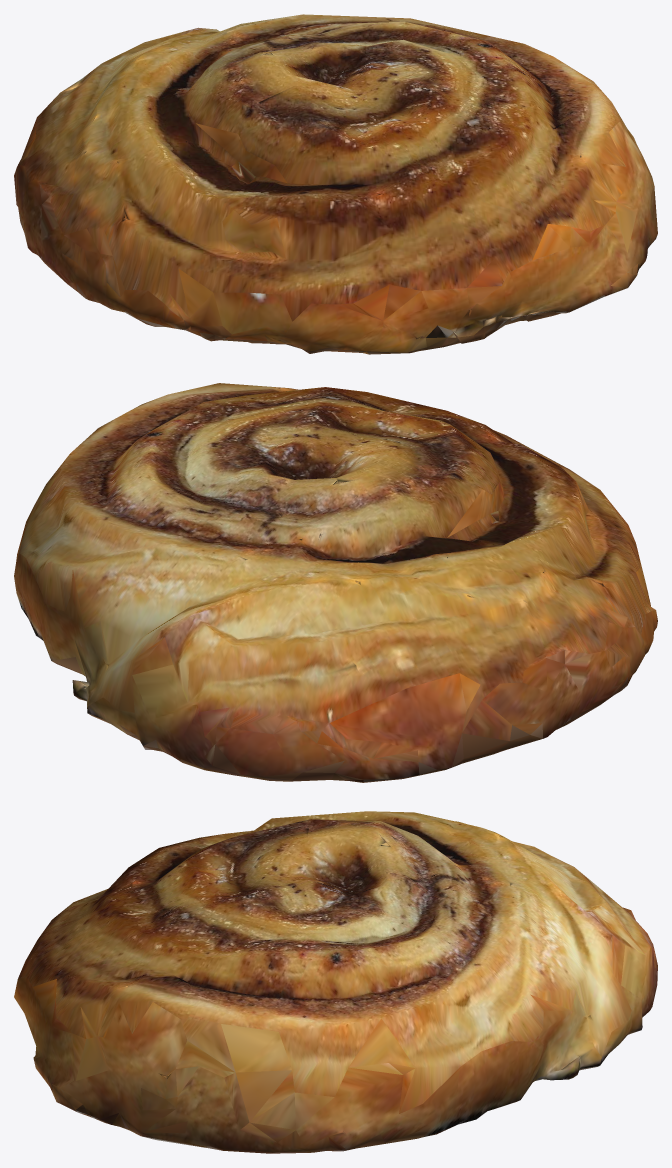
File: cinnamon_2118.obj
The picture shows the model from 3 angles, top to bottom: view 1: azimuth 30°, elevation 25°; view 2: azimuth 150°, elevation 25°; view 3: azimuth 270°, elevation 25°; orthographic projection. The views are drawn at different scales.
Bounding box in the file's own units: 110 × 34.09 × 115.
1 material, 1 textured.
